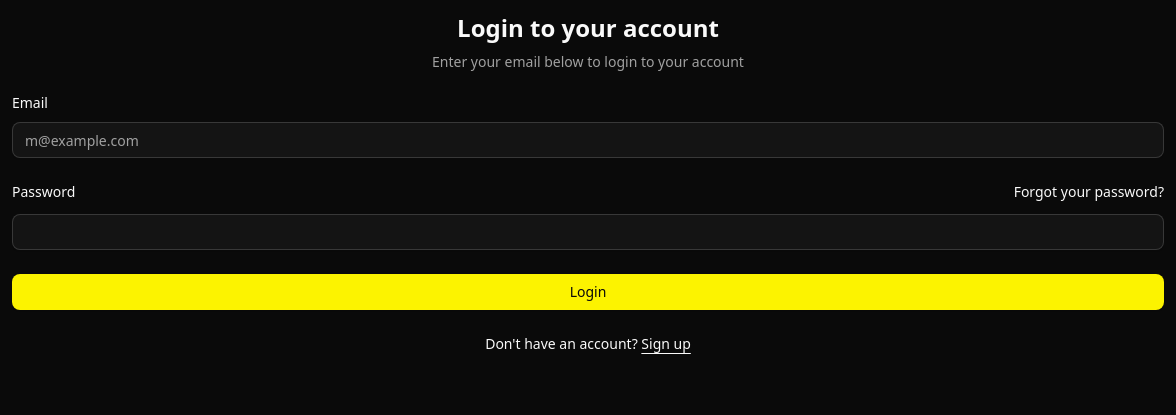
it: LoginForm › shows an error message when login fails
Type "user@example.com" into the field labelled "Email". click: (588, 140)
box: left=12, top=122, right=1164, bottom=158
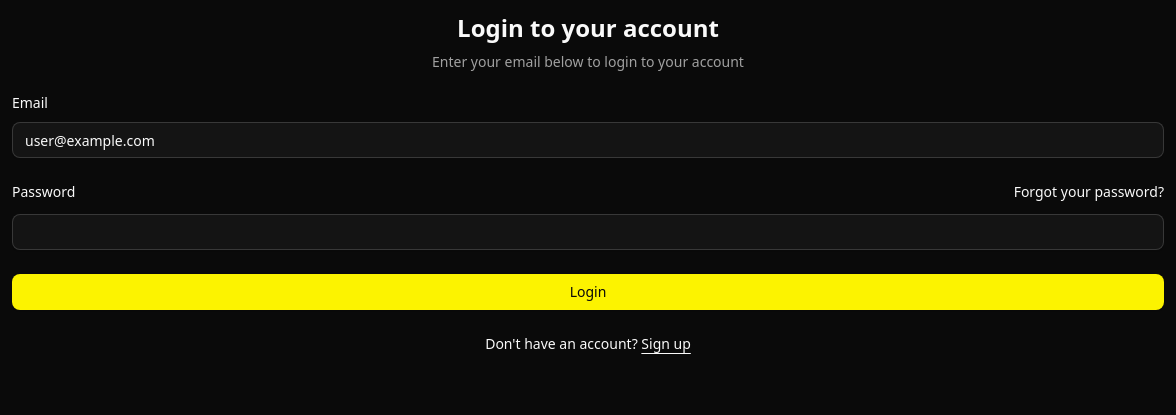
Type "wrong" into the password field labelled "Password". click: (588, 232)
box: left=12, top=214, right=1164, bottom=250
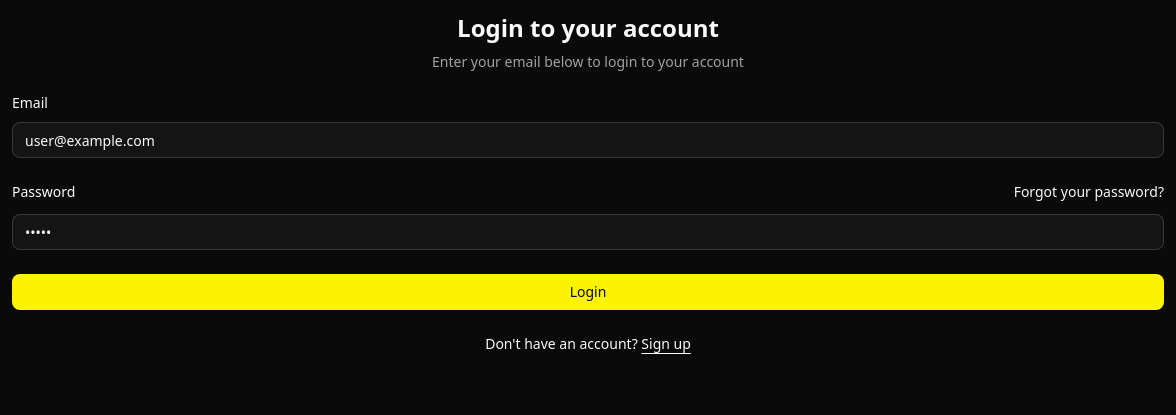
Click the button "Login". click: (588, 292)
box: left=12, top=274, right=1164, bottom=310
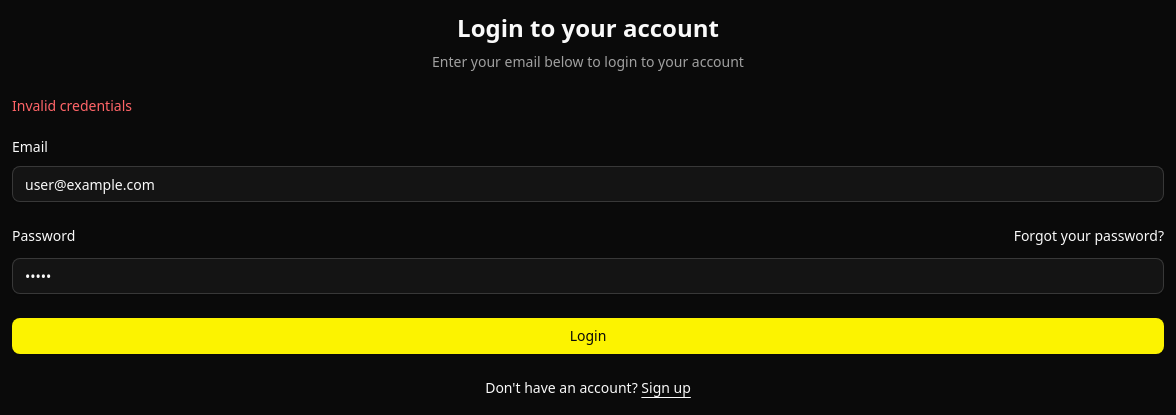
Check: the text "Invalid credentials" is shown, box left=12, top=96, right=132, bottom=115
